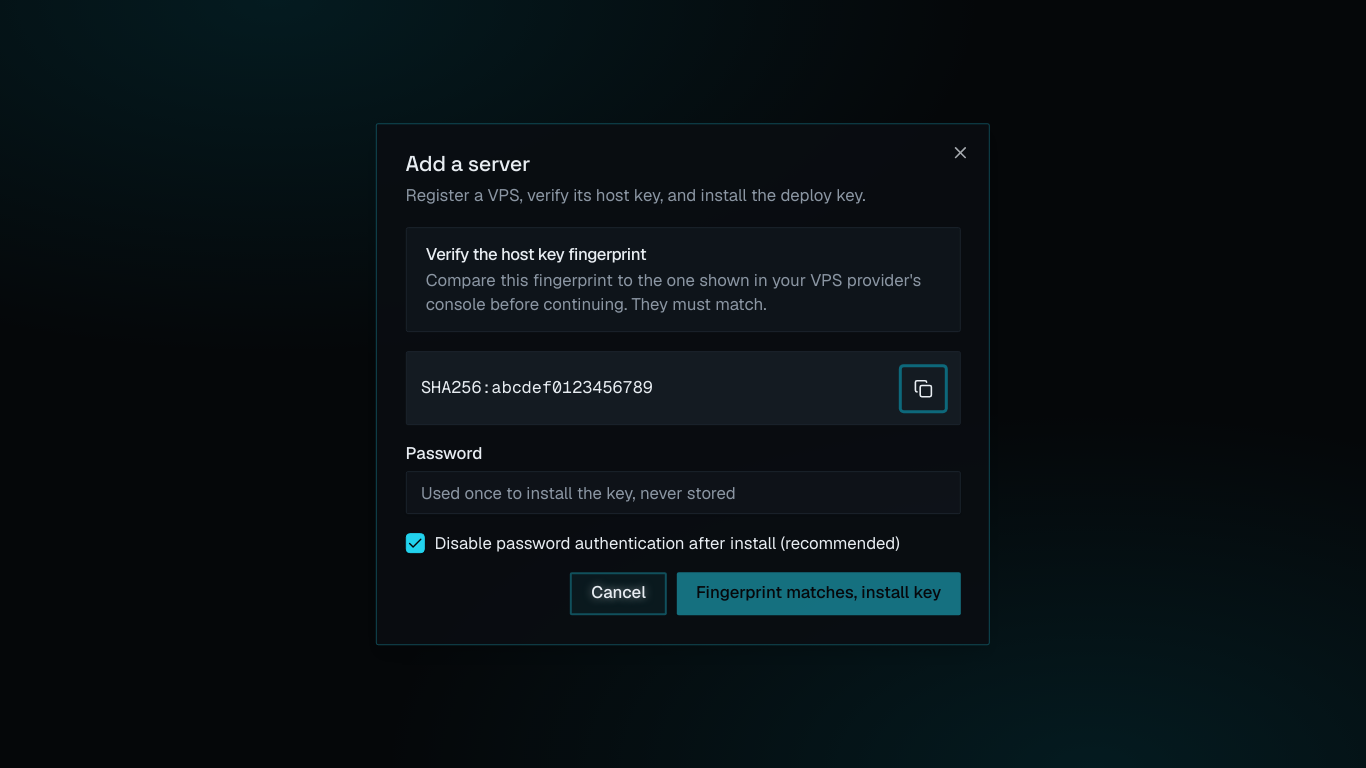
Test: AddServerDialog › resumes at the fingerprint step with an empty password and install gated on it
Check: the text "SHA256:abcdef0123456789" is shown, box [421,377,653,399]
Check: the button "Fingerprint matches, install key" is disabled, box [677,572,960,615]
Type "hunter2" into the password field labelled "Password" at {"x": 683, "y": 493}, box [406,471,960,514]
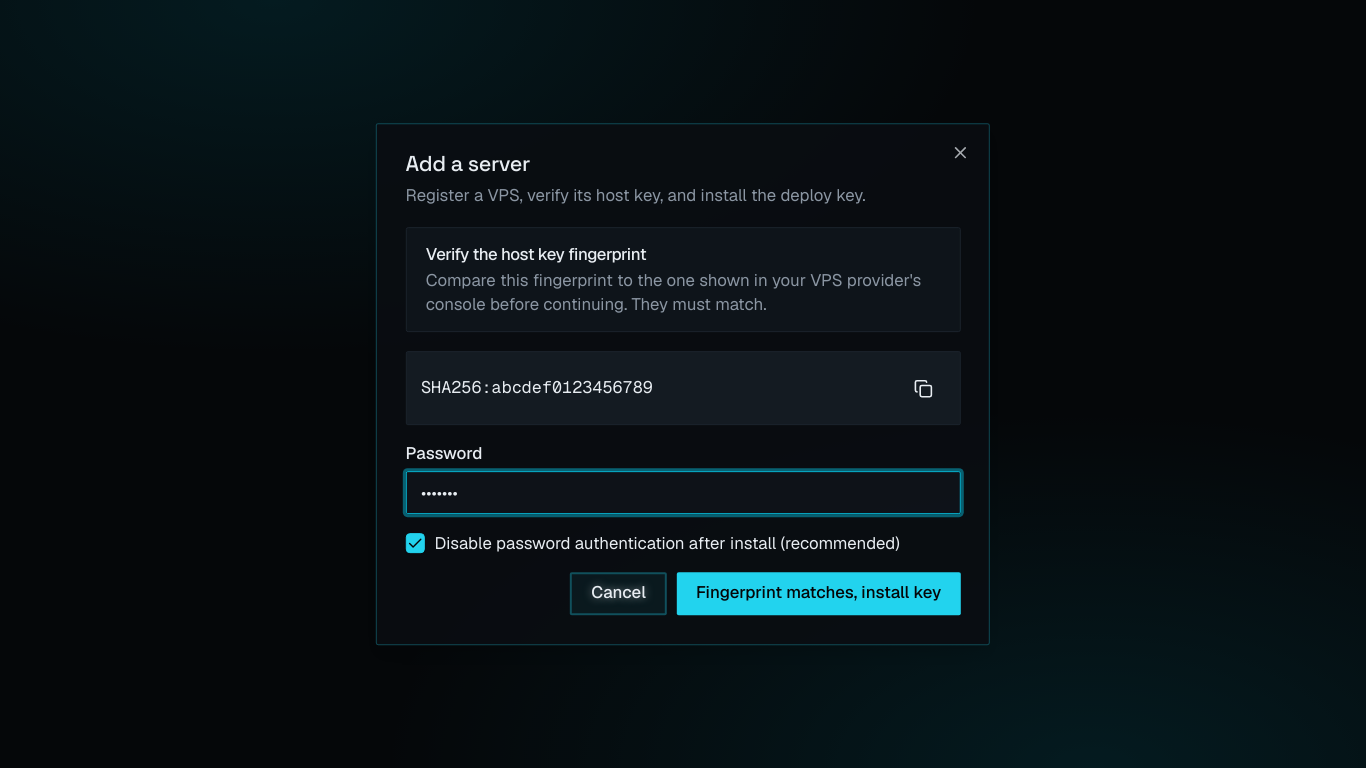
Check: the button "Fingerprint matches, install key" is enabled, box [677,572,960,615]
